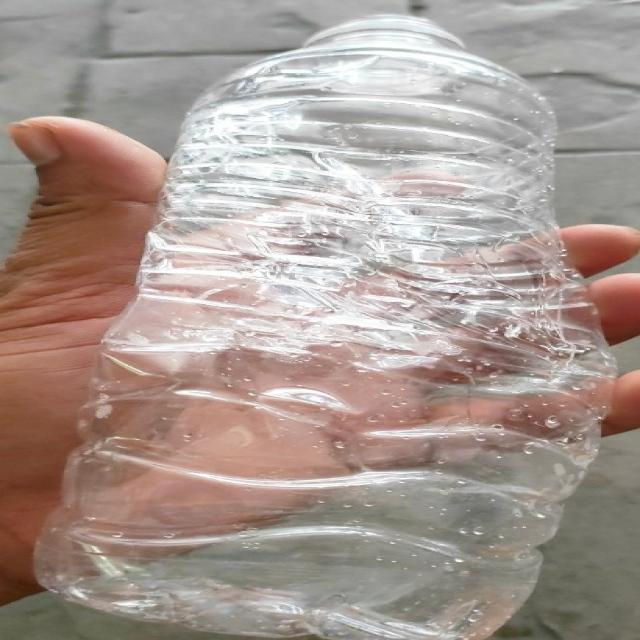plastic_bottle: (31, 15, 620, 640)
